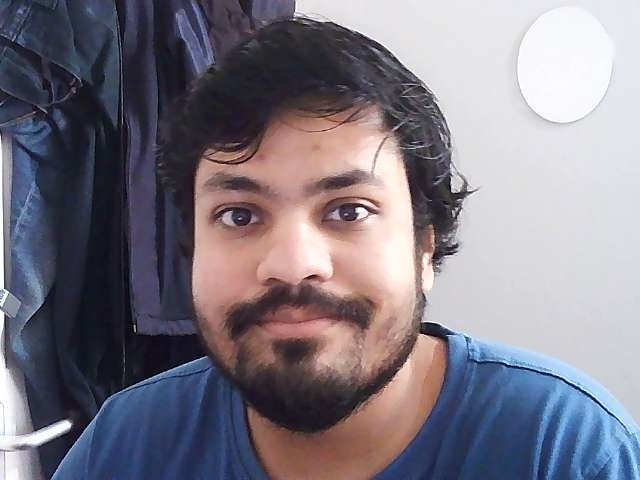Face: (158, 15, 459, 427)
